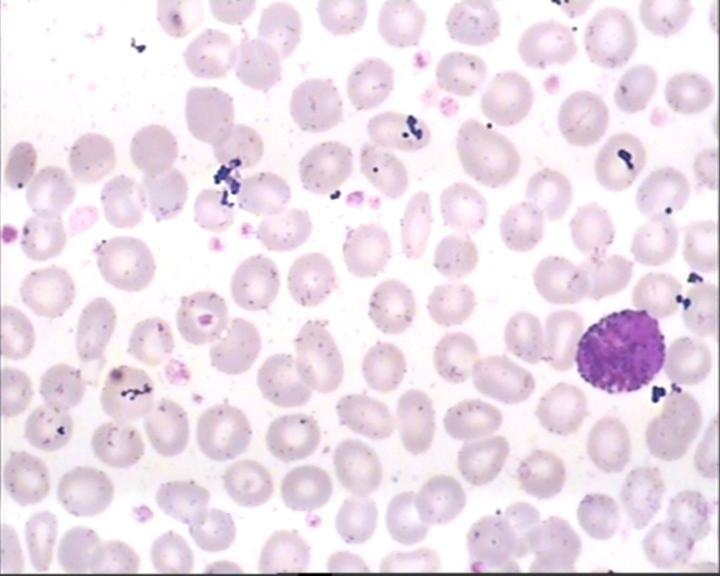baso: (568, 307, 667, 398)
